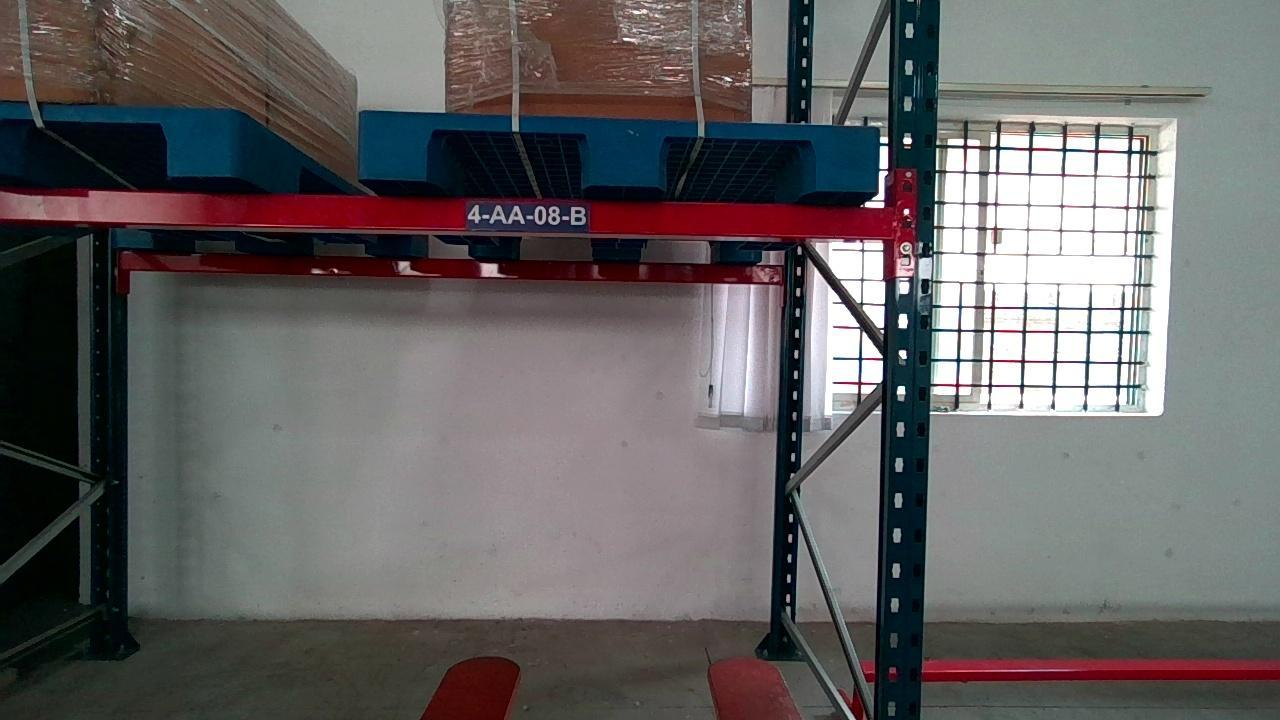h_rack: (0, 184, 897, 241)
small_pallet: (358, 111, 878, 194)
